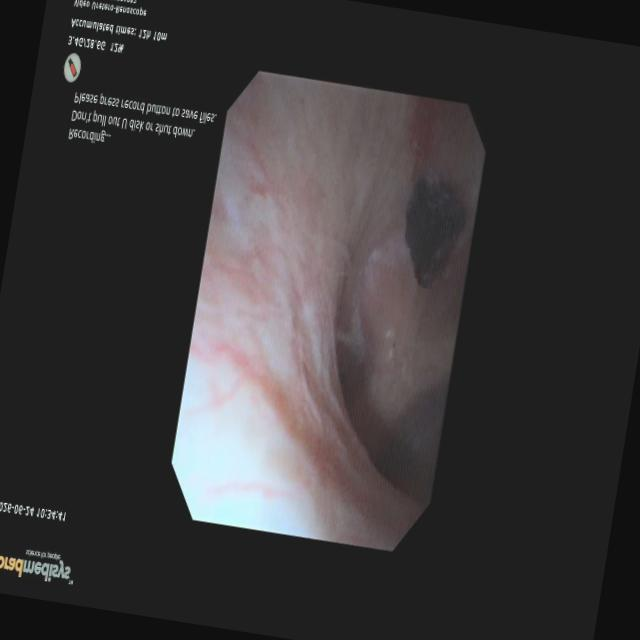stone-new: (405, 176, 466, 288)
